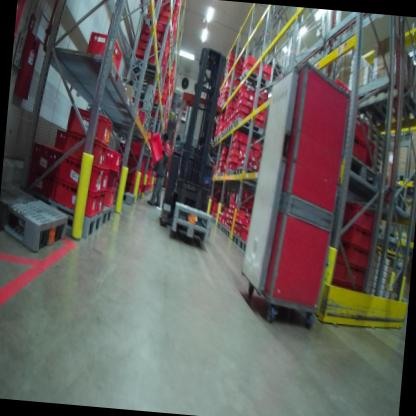pallet: (0, 178, 69, 263), (22, 189, 104, 239), (368, 73, 416, 127), (346, 152, 385, 199), (169, 197, 214, 231), (168, 217, 210, 247), (378, 181, 410, 219), (239, 66, 275, 92), (122, 76, 157, 99), (131, 56, 165, 79), (233, 116, 268, 138), (143, 16, 177, 38), (375, 219, 398, 248), (235, 165, 262, 187), (129, 90, 154, 110), (98, 204, 116, 231), (113, 186, 135, 207), (136, 109, 152, 130), (135, 101, 154, 117), (393, 170, 410, 187), (152, 101, 169, 118), (224, 170, 241, 184), (238, 237, 250, 255), (134, 122, 149, 136), (406, 167, 416, 185), (225, 225, 234, 241), (231, 233, 240, 248), (220, 224, 226, 236), (228, 123, 234, 134)
pallet_truck: (156, 36, 233, 252)
small_load_carrier: (64, 101, 115, 150), (84, 23, 125, 81), (55, 152, 104, 193), (28, 137, 68, 180), (336, 217, 375, 259), (338, 198, 379, 237), (61, 130, 108, 164), (335, 240, 372, 277), (334, 255, 372, 291), (146, 126, 168, 164), (69, 190, 100, 215), (350, 118, 378, 139), (351, 139, 380, 159), (122, 135, 144, 157), (107, 146, 123, 173), (54, 128, 70, 151), (99, 166, 109, 194), (105, 187, 119, 207), (107, 172, 120, 190), (99, 195, 106, 215)
